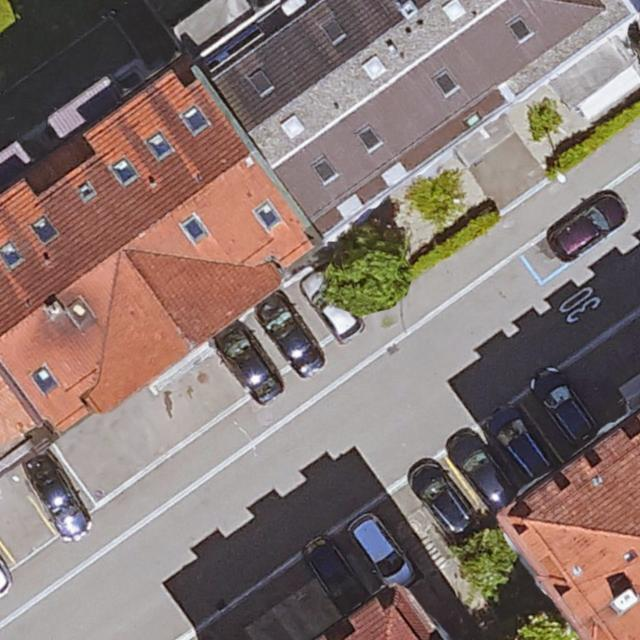tree: (328, 249, 406, 309), (462, 538, 512, 587)
